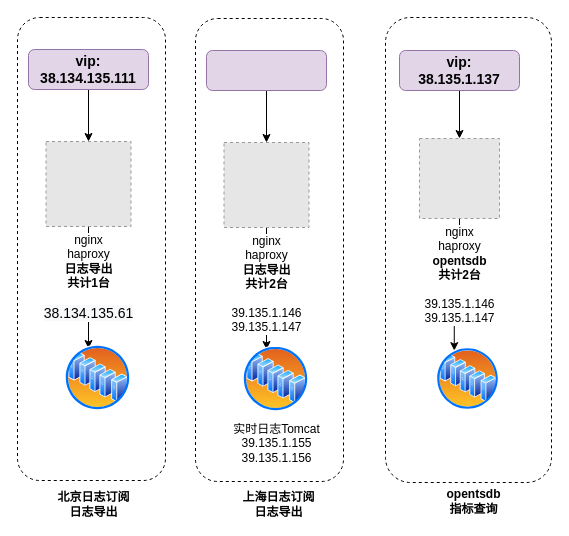
Some shapes in this 569 by 536 pixel diagram are drawn without their labels. Grey dashed boxes stand in for pictures. Here are the shapes that lost their labels. From the top down, the box of each, then its label:
(206, 50, 326, 90): vip: 38.135.1.139
(64, 344, 130, 410): 实时日志Tomcat 38.134.135.61 38.134.135.64
(436, 347, 499, 410): 指标存储服务器 39.135.1.150-39.135.1.153 39.135.1.167-39.135.1.172
